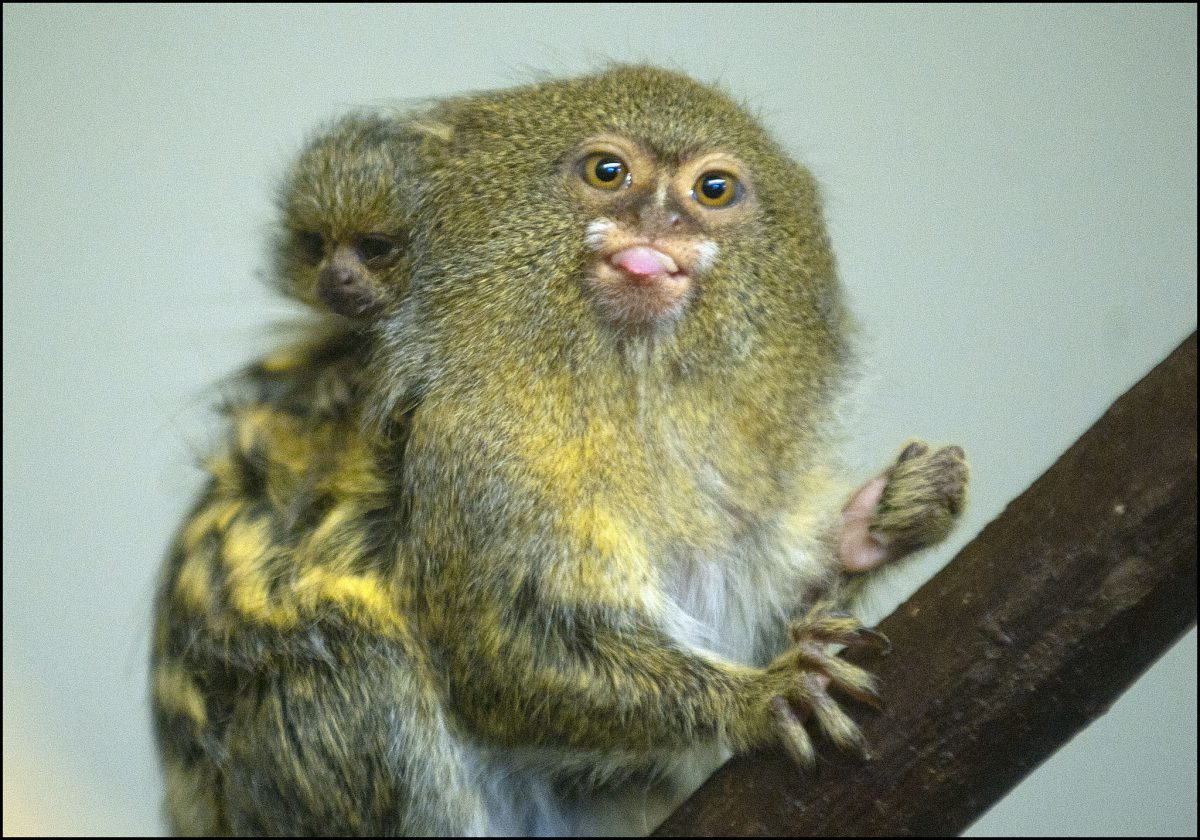PygmyMarmoset: (110, 87, 888, 813), (230, 105, 470, 338)
